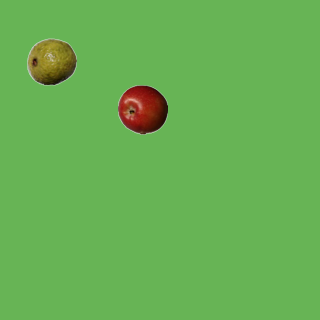Apple Braeburn: (117, 84, 167, 134)
Guava: (26, 36, 76, 86)
